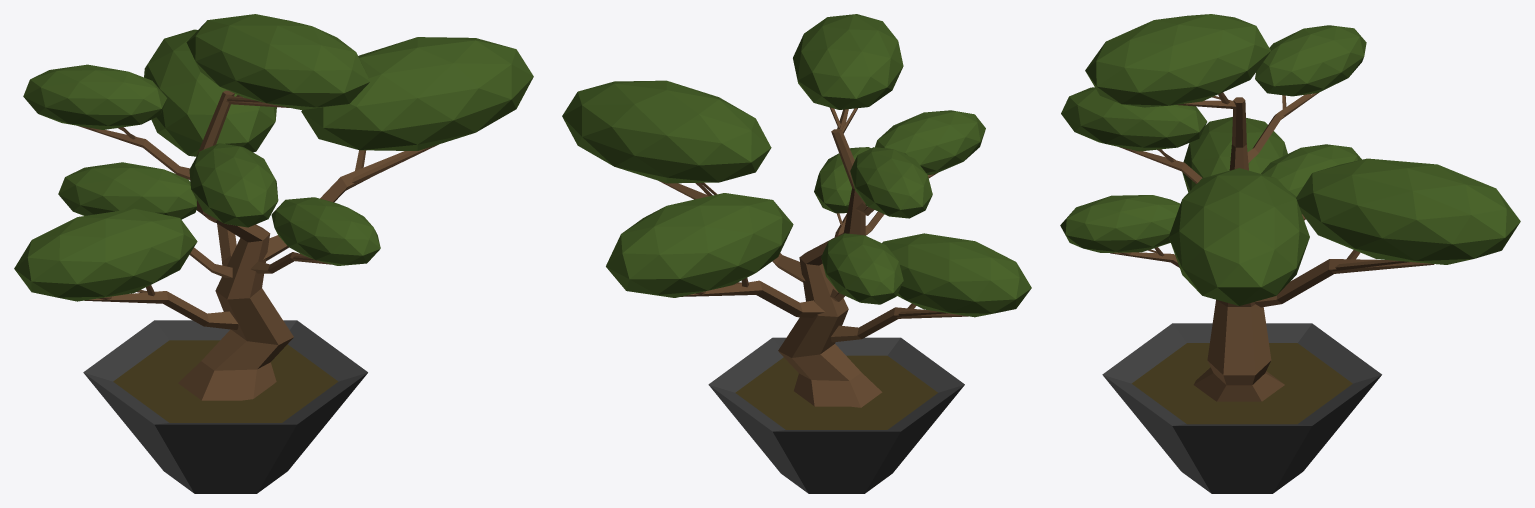
File: Bonsai1.glb
3 views of the same model, side by side, from view 1: azimuth 30°, elevation 25°; view 2: azimuth 150°, elevation 25°; view 3: azimuth 270°, elevation 25° (orthographic). The views are drawn at different scales.
Visible parts, largest first — view 1: Bonsai1; view 2: Bonsai1; view 3: Bonsai1.
Boxes of the visible parts, box(x1,y1,x2,y2) form: Bonsai1: box(14, 14, 533, 493); Bonsai1: box(562, 14, 1031, 493); Bonsai1: box(1060, 14, 1520, 493).
Size of the model in its own units: 2.58 by 2.28 by 2.09.
